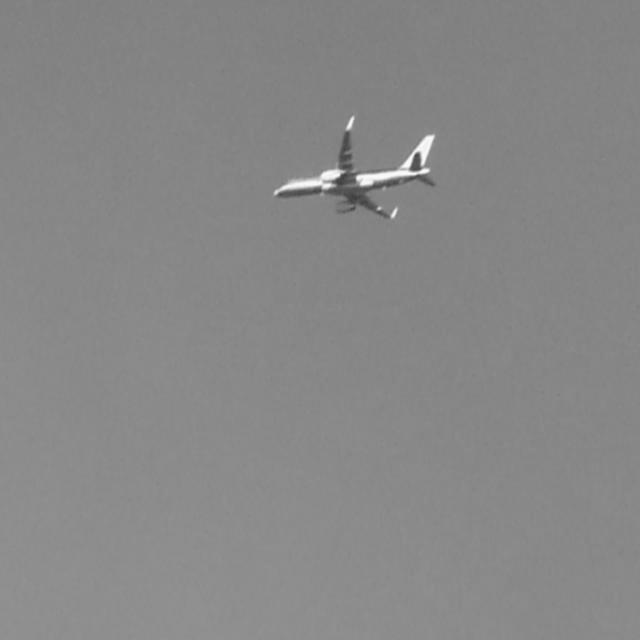aeroplane: (268, 115, 440, 227)
